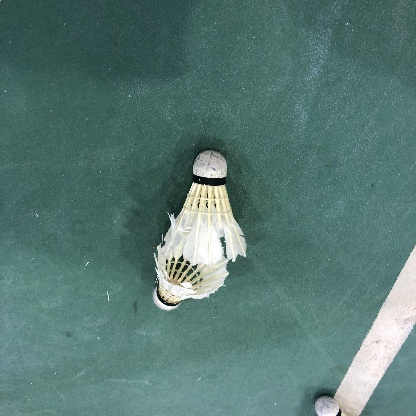ball_single: (163, 150, 247, 266), (153, 242, 228, 310), (315, 395, 349, 416)
